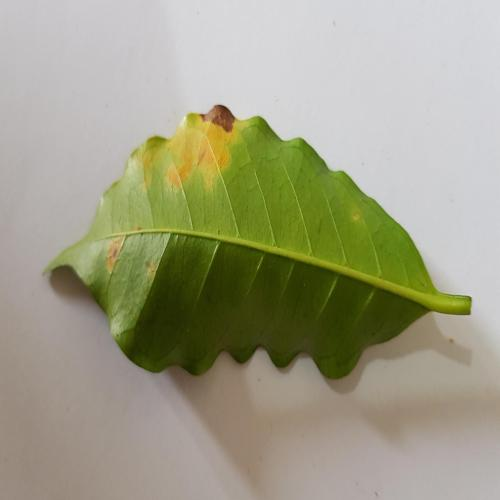phoma: (166, 105, 243, 187)
